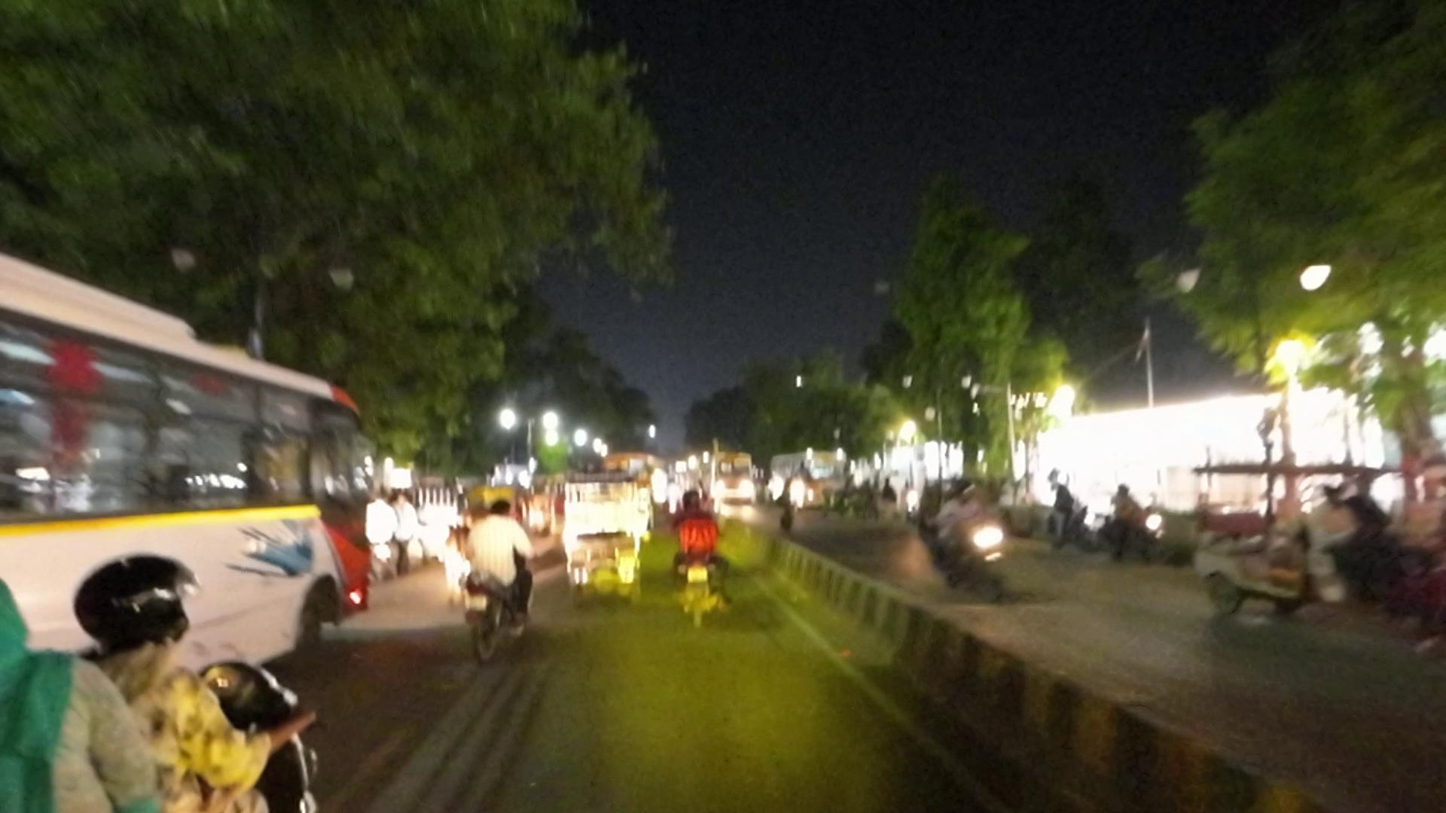streetlight: (1164, 234, 1219, 303), (160, 215, 213, 284), (320, 234, 364, 302)
